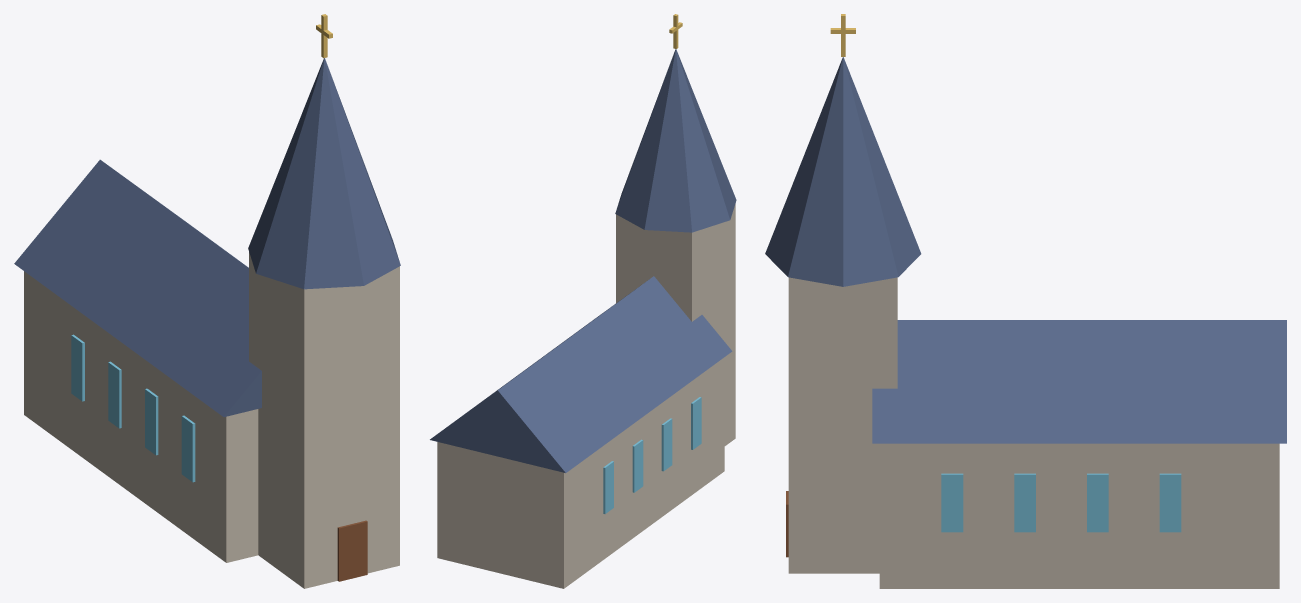
Rendered from church.glb.
The picture shows the model from 3 angles, left to right: view 1: azimuth 30°, elevation 25°; view 2: azimuth 150°, elevation 25°; view 3: azimuth 270°, elevation 25°; orthographic projection. The views are drawn at different scales.
Parts seen in each view (by area): view 1: church_stone, church_roof_slate, church_window, church_door; view 2: church_stone, church_roof_slate, church_window; view 3: church_stone, church_roof_slate, church_window.
Part boxes in pixels (bbox=[...]): church_stone: bbox=[24, 252, 399, 588]; church_roof_slate: bbox=[14, 58, 400, 416]; church_window: bbox=[71, 334, 195, 482]; church_door: bbox=[337, 520, 367, 581]; church_stone: bbox=[437, 204, 735, 588]; church_roof_slate: bbox=[430, 49, 736, 472]; church_window: bbox=[603, 397, 701, 513]; church_stone: bbox=[788, 277, 1279, 588]; church_roof_slate: bbox=[765, 57, 1286, 443]; church_window: bbox=[941, 473, 1181, 532].
Size of the model in its own units: 10.8 by 32.5 by 28.7.
